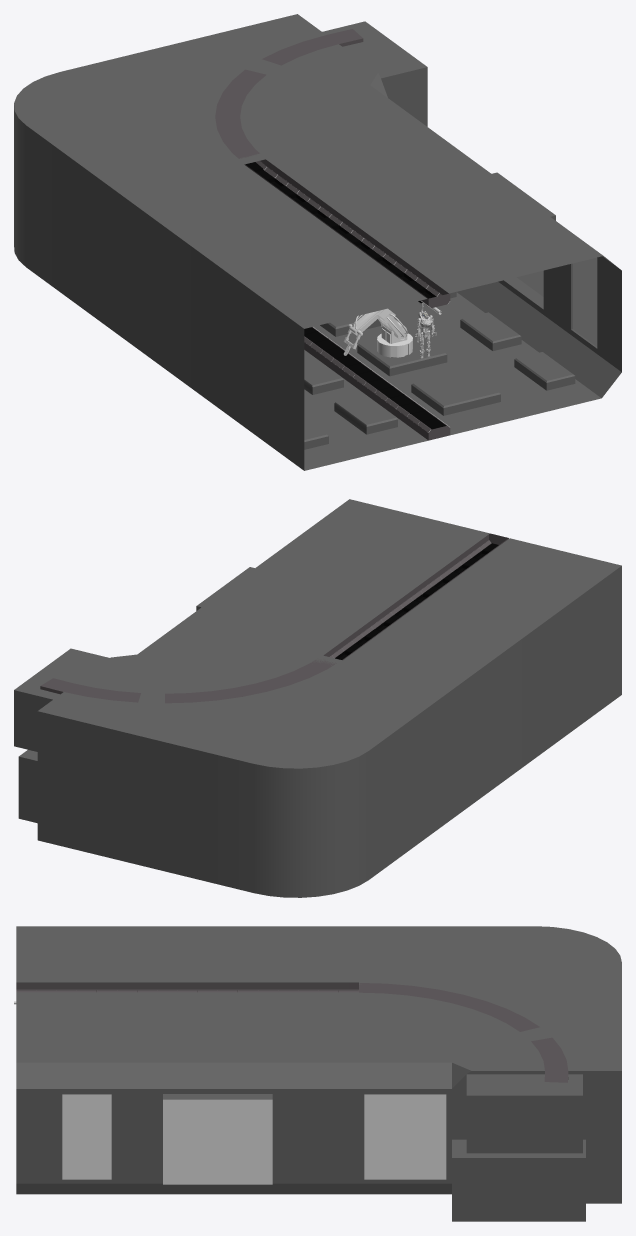
File: BC Main menuscreen.fbx
3 renders of one model, top to bottom at view 1: azimuth 30°, elevation 25°; view 2: azimuth 150°, elevation 25°; view 3: azimuth 270°, elevation 25°, orthographic. The views are drawn at different scales.
Parts seen in each view (by area): view 1: Factorybase, Conveyormahine, Conveyorbelt, Robotarmbase, Hanger_robot; view 2: Factorybase, Conveyormahine, Conveyorbelt; view 3: Factorybase, Conveyormahine.
Boxes of the visible parts, <box> form: Factorybase: <box>14,14,621,470</box>; Conveyormahine: <box>215,29,450,440</box>; Conveyorbelt: <box>245,162,446,429</box>; Robotarmbase: <box>377,320,412,357</box>; Hanger_robot: <box>415,302,436,358</box>; Factorybase: <box>14,499,621,897</box>; Conveyormahine: <box>40,533,508,703</box>; Conveyorbelt: <box>335,543,498,659</box>; Factorybase: <box>16,926,621,1221</box>; Conveyormahine: <box>16,983,568,1082</box>.
Size of the model in its own units: 3373 by 1366 by 5221.
